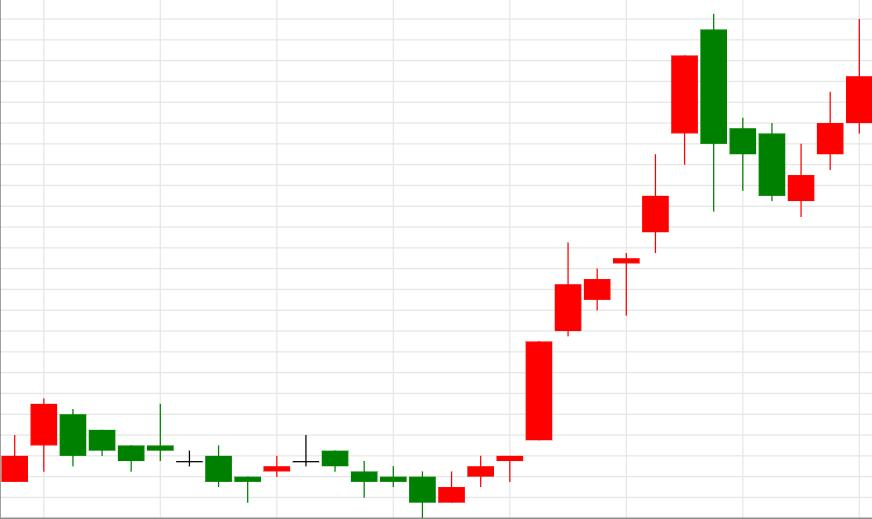bearish_engulfing_fall: (438, 14, 727, 503)
